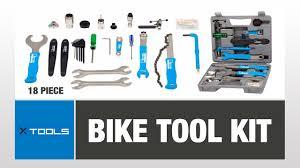wrench: (69, 75, 132, 90), (70, 63, 132, 78), (181, 31, 201, 74), (70, 36, 86, 64), (99, 35, 112, 55)
